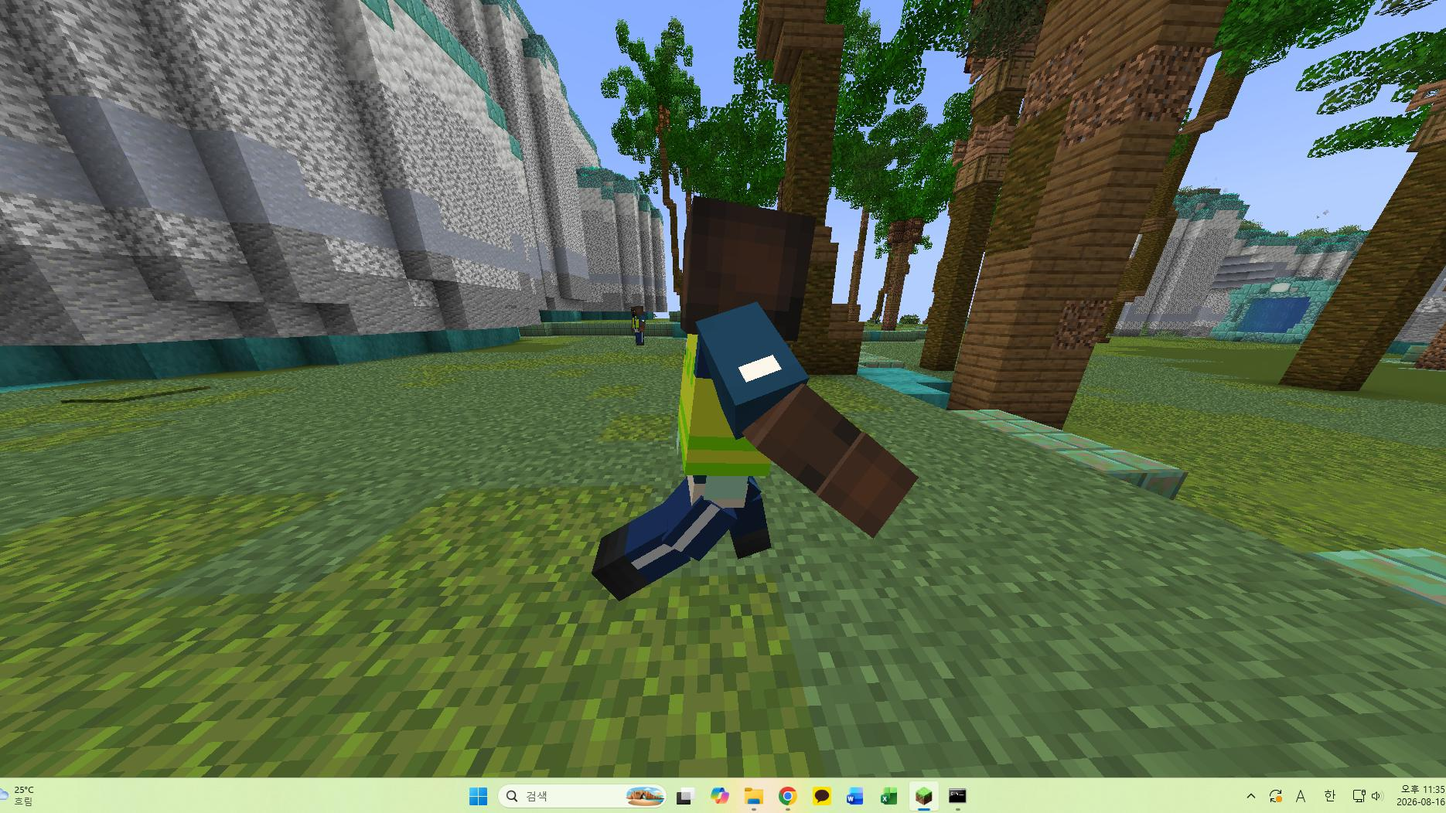Guardian: (592, 197, 916, 599)
